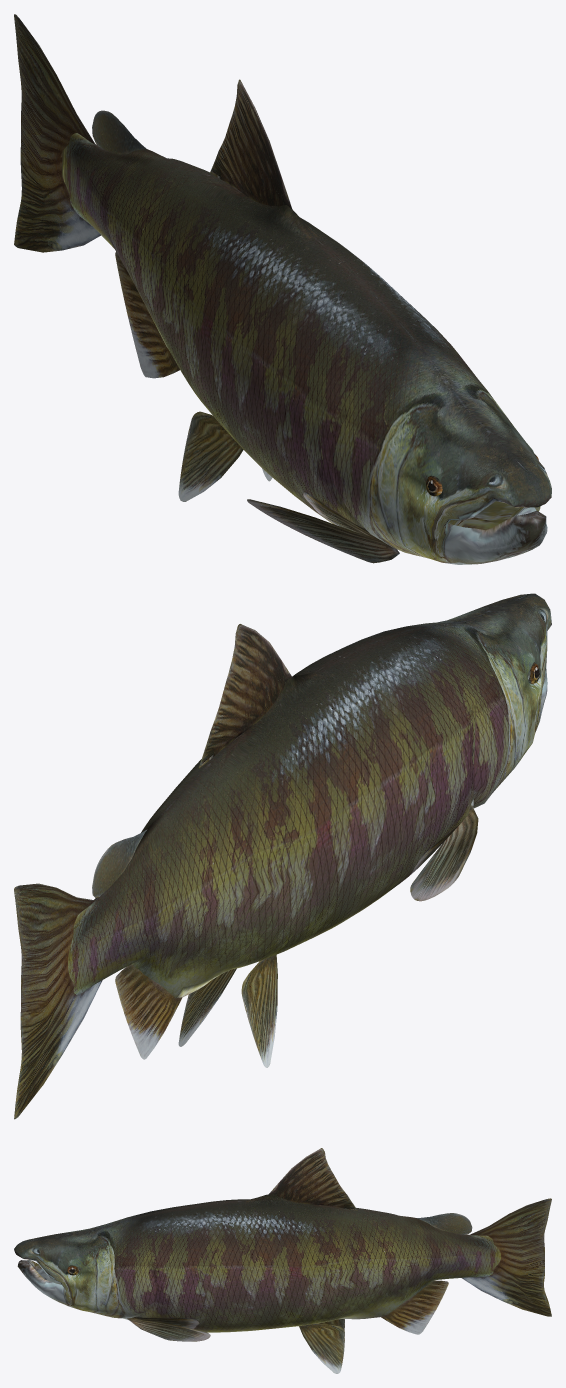
The model's file is 10.30-2_Big Fish.fbx.
3 renders of one model, top to bottom at view 1: azimuth 30°, elevation 25°; view 2: azimuth 150°, elevation 25°; view 3: azimuth 270°, elevation 25°, orthographic. The views are drawn at different scales.
Visible parts, largest first — view 1: polySurface38; view 2: polySurface38; view 3: polySurface38.
Part boxes in pixels (x1,y1,x2,y2): polySurface38: [14, 14, 551, 564]; polySurface38: [14, 593, 551, 1119]; polySurface38: [14, 1148, 551, 1373].
Size of the model in its own units: 23.08 by 44.78 by 101.
Materials: 2 (1 with a texture image).
